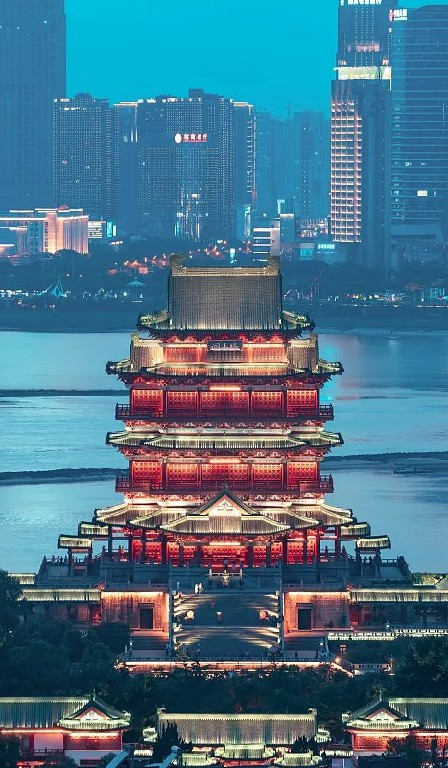Teng: (57, 255, 392, 581)
